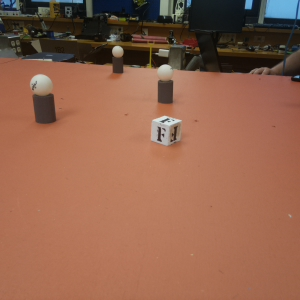blockF: (151, 115, 181, 145)
obstacle: (32, 73, 55, 125), (156, 65, 175, 102), (112, 46, 125, 74)
